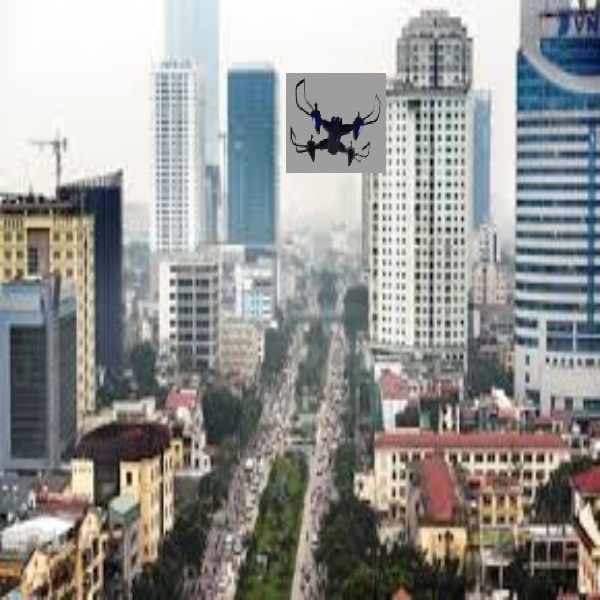drone: (284, 76, 387, 173)
